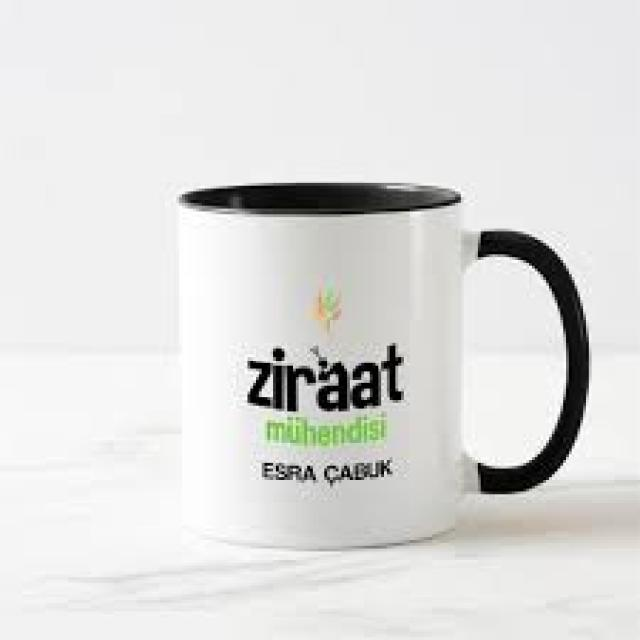taza: (174, 181, 591, 554)
